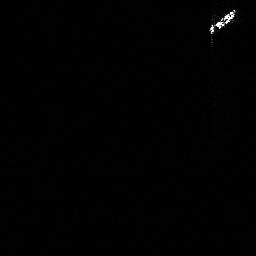ship: (204, 5, 239, 37)
